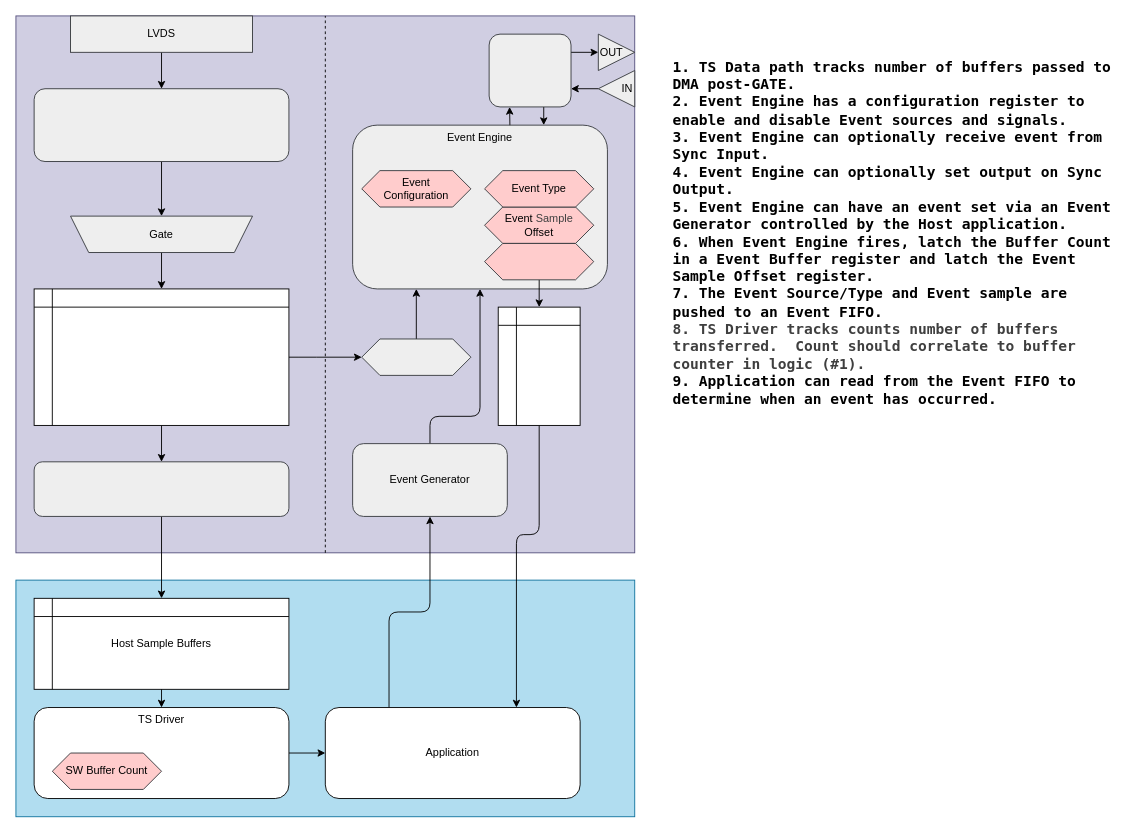
Image size: 1142x833. Some labels were removed from this diagram. The shapes that lost their labels are listed below. From the top down, each one's centre as x and y in pixels, then its label:
(x=529, y=70): Ext Sync Control
(x=161, y=125): SERDES Sample RX Data Producer
(x=539, y=261): Event Buffer
(x=161, y=356): DMA Buffers
(x=416, y=356): Buffer Count
(x=538, y=365): Event FIFO
(x=161, y=488): PCIe DMA
